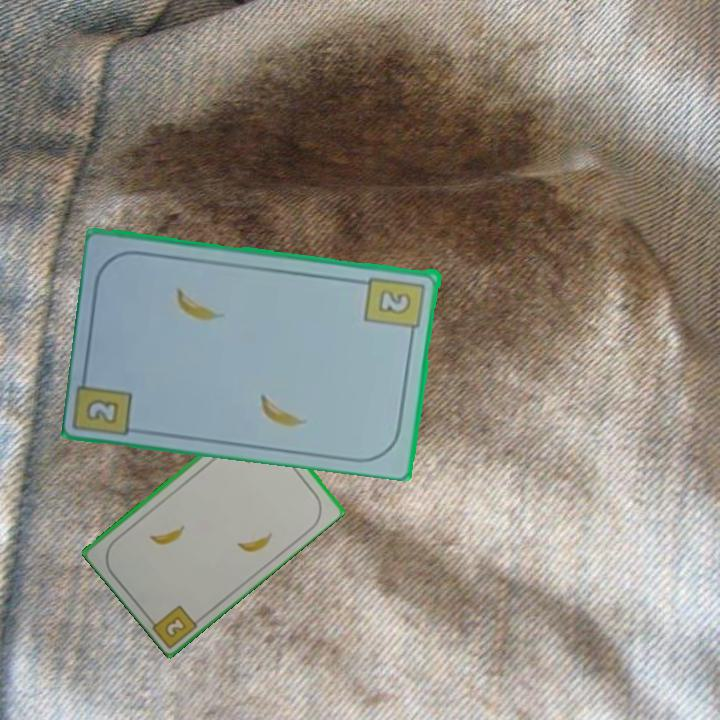2b: (362, 272, 428, 340), (82, 395, 122, 427), (161, 612, 189, 640)
